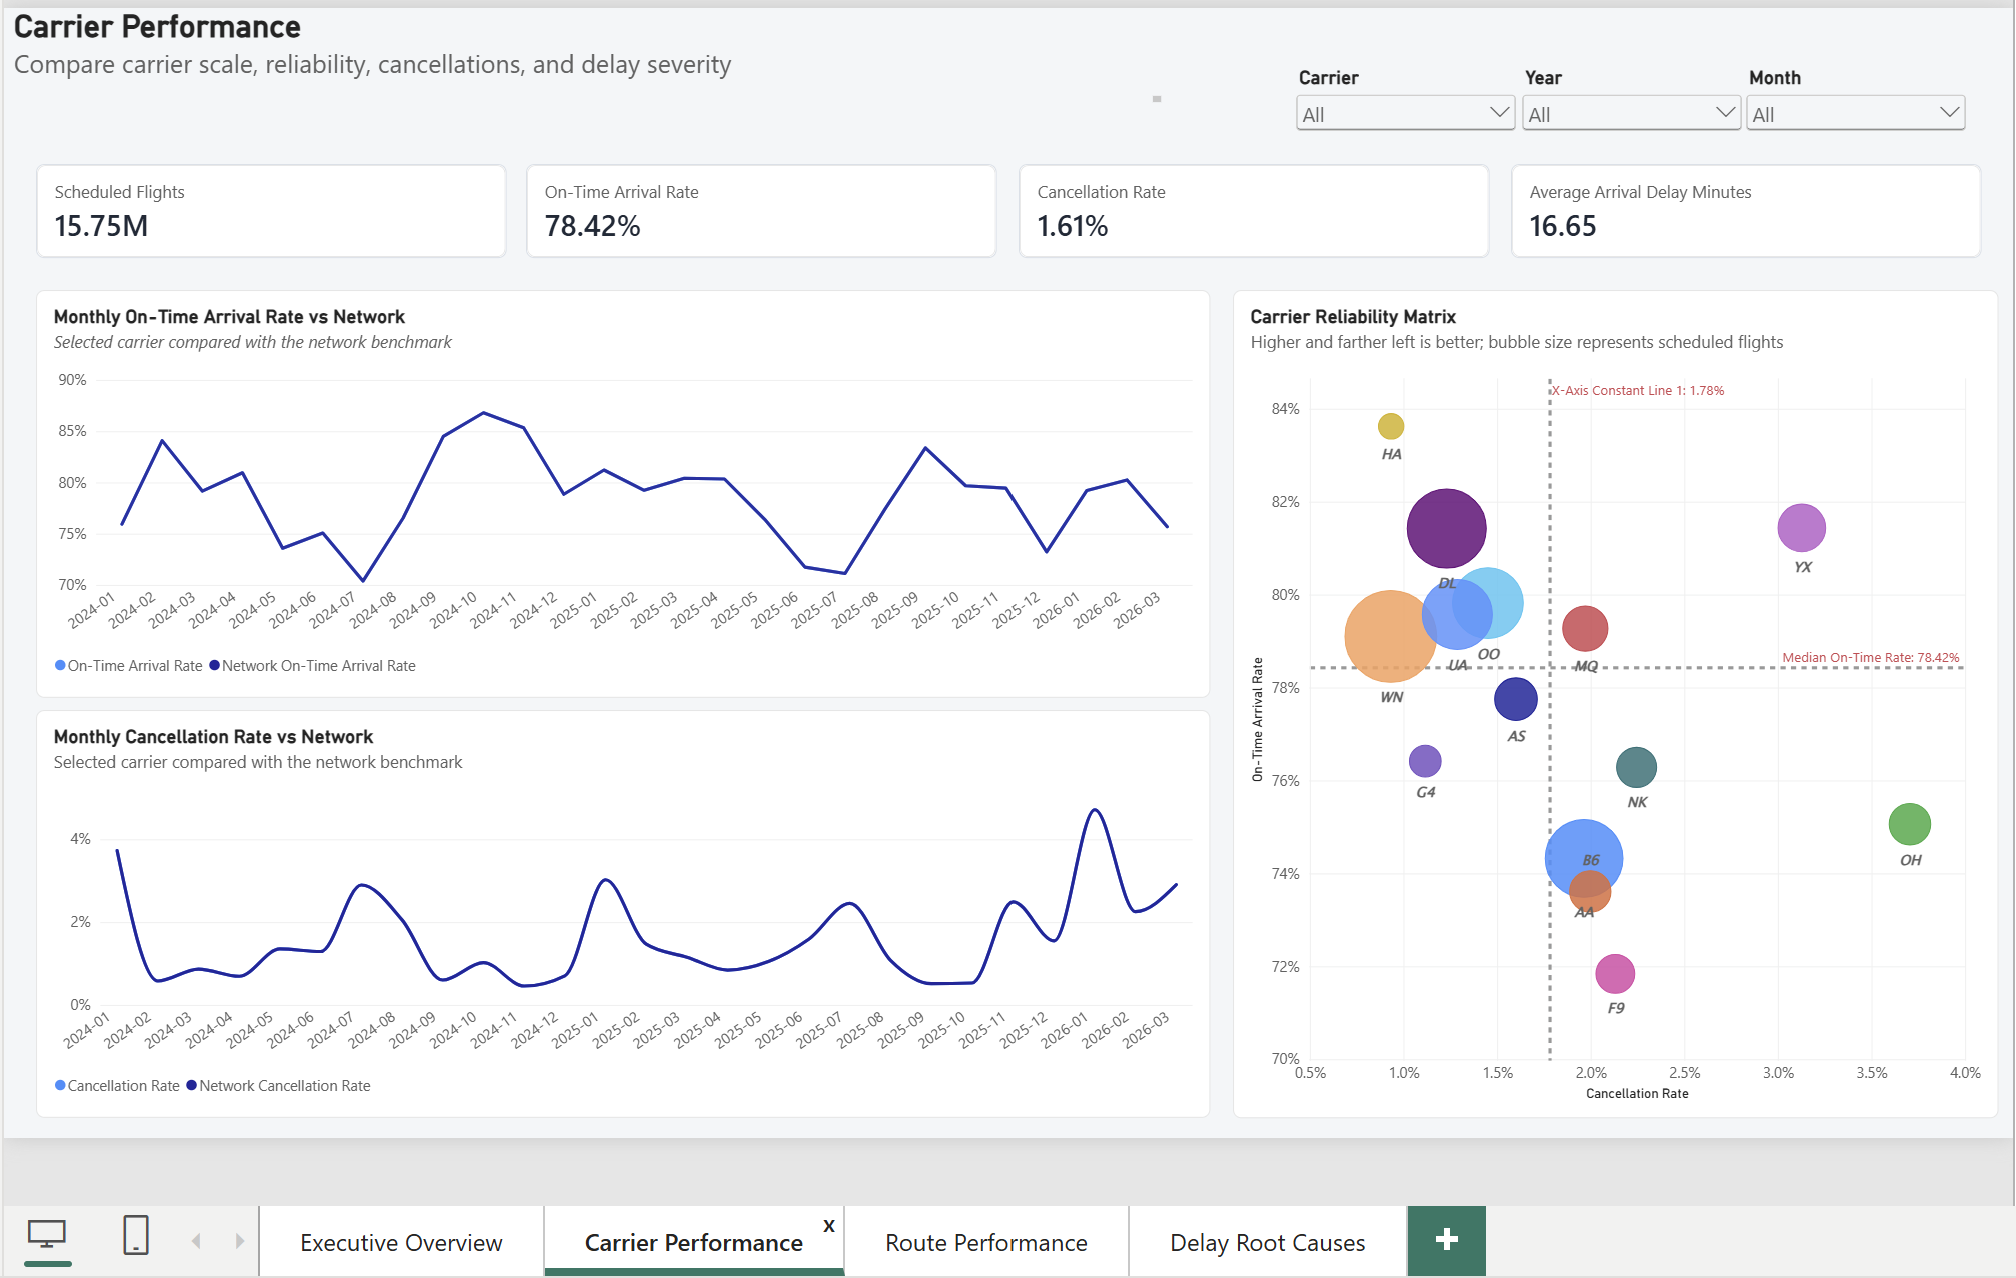

The dashboard page shown, as its layout file describes it:
{"tool":"powerbi","page":{"name":"Carrier Performance","canvas":[1920,1080],"ordinal":1},"visuals":[{"type":"textbox","title":"Carrier Performance","box":[9.6,0,1095.8,89.9],"z":0},{"type":"lineChart","title":"Monthly On-Time Arrival Rate vs Network","fields":{"Category":["dim_date.year_month"],"Y":["_Measures.On-Time Arrival Rate","_Measures.Network On-Time Arrival Rate"]},"box":[30,270,1122,390],"z":1000},{"type":"cardVisual","fields":{"Data":["_Measures.Scheduled Flights"]},"box":[30,150,450,90],"z":2000},{"type":"cardVisual","fields":{"Data":["_Measures.On-Time Arrival Rate"]},"box":[500,150,450,90],"z":3000},{"type":"cardVisual","fields":{"Data":["_Measures.Cancellation Rate"]},"box":[970,150,450,90],"z":4000},{"type":"cardVisual","fields":{"Data":["_Measures.Average Arrival Delay Minutes"]},"box":[1440,150,450,90],"z":5000},{"type":"slicer","title":"Reporting year","fields":{"Values":["dim_date.calendar_year"]},"box":[1445,55,220,70],"z":6000},{"type":"slicer","title":"Reporting year","fields":{"Values":["dim_date.month_name"]},"box":[1660,55,220,70],"z":7000},{"type":"slicer","title":"Reporting year","fields":{"Values":["dim_carrier.reporting_airline_code"]},"box":[1230,56,220,70],"z":8000},{"type":"lineChart","title":"Monthly Cancellation Rate vs Network","fields":{"Category":["dim_date.year_month"],"Y":["_Measures.Cancellation Rate","_Measures.Network Cancellation Rate"]},"box":[30,672,1122,390],"z":9000},{"type":"scatterChart","title":"Carrier Reliability Matrix","fields":{"Series":["dim_carrier.reporting_airline_code"],"Size":["_Measures.Scheduled Flights"],"X":["_Measures.Cancellation Rate"],"Y":["_Measures.On-Time Arrival Rate"]},"box":[1174,270,732,792],"z":10000}]}

Visuals, with their boxes on the page's 1920x1080 design canvas (x1, y1, x2, y2). These are canvas units, not pixel positions in the 2016x1278 screenshot, which may show the page scaled, cropped or inside an application window:
"Carrier Performance" textbox: BBox(10, 0, 1105, 90)
"Monthly On-Time Arrival Rate vs Network" lineChart: BBox(30, 270, 1152, 660)
cardVisual - _Measures.Scheduled Flights: BBox(30, 150, 480, 240)
cardVisual - _Measures.On-Time Arrival Rate: BBox(500, 150, 950, 240)
cardVisual - _Measures.Cancellation Rate: BBox(970, 150, 1420, 240)
cardVisual - _Measures.Average Arrival Delay Minutes: BBox(1440, 150, 1890, 240)
"Reporting year" slicer: BBox(1445, 55, 1665, 125)
"Reporting year" slicer: BBox(1660, 55, 1880, 125)
"Reporting year" slicer: BBox(1230, 56, 1450, 126)
"Monthly Cancellation Rate vs Network" lineChart: BBox(30, 672, 1152, 1062)
"Carrier Reliability Matrix" scatterChart: BBox(1174, 270, 1906, 1062)
